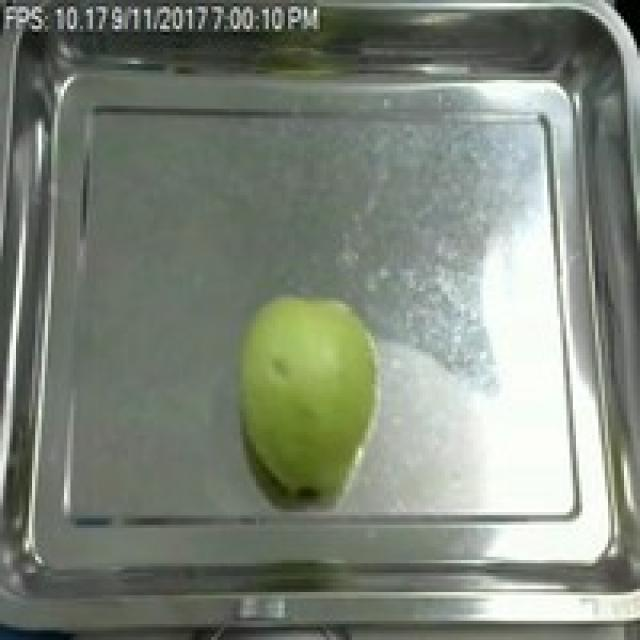Fruit: (224, 282, 394, 502)
